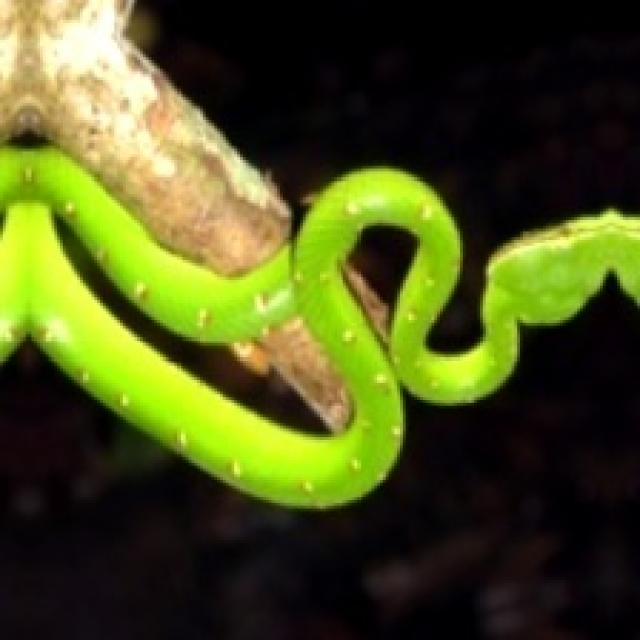north ph temple pitviper: (0, 140, 640, 507)
